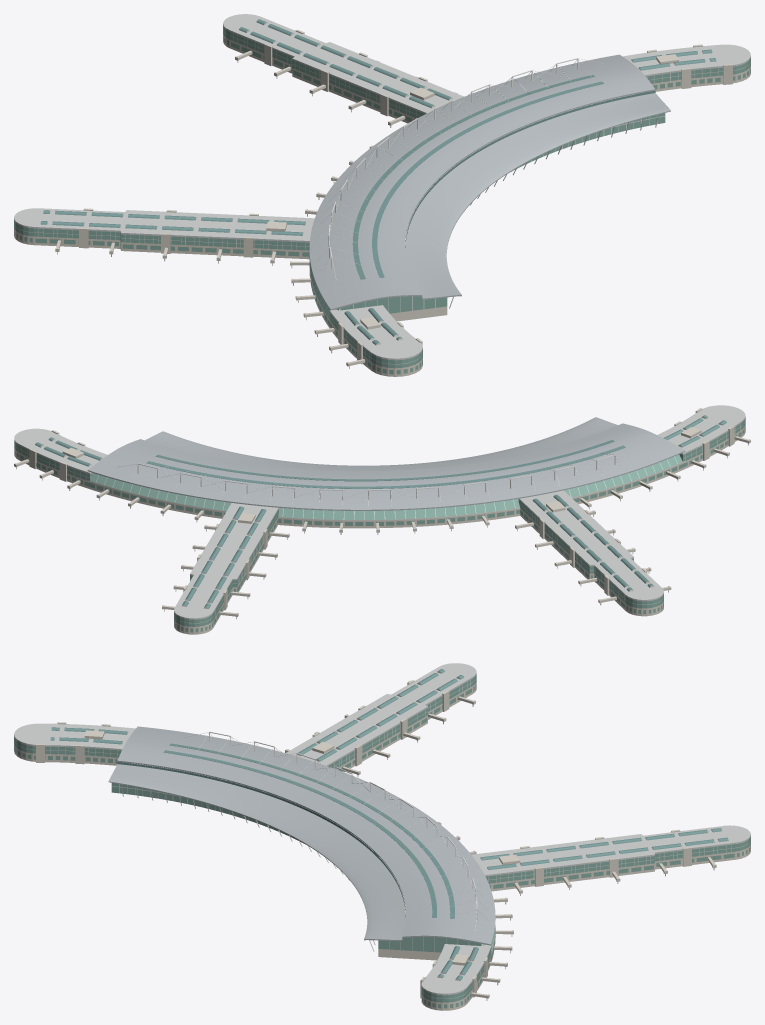
File: incheon-airport-terminal-1.detail.glb
3 renders of one model, top to bottom at view 1: azimuth 30°, elevation 25°; view 2: azimuth 150°, elevation 25°; view 3: azimuth 270°, elevation 25°, orthographic. The views are drawn at different scales.
Parts seen in each view (by area): view 1: Incheon International Airport Terminal 1; view 2: Incheon International Airport Terminal 1; view 3: Incheon International Airport Terminal 1.
Boxes of the visible parts, box(x1,y1,x2,y2) form: Incheon International Airport Terminal 1: box(14, 14, 750, 376); Incheon International Airport Terminal 1: box(14, 405, 750, 634); Incheon International Airport Terminal 1: box(14, 663, 750, 1010).
Bounding box in the file's own units: 958 × 43.66 × 902.
